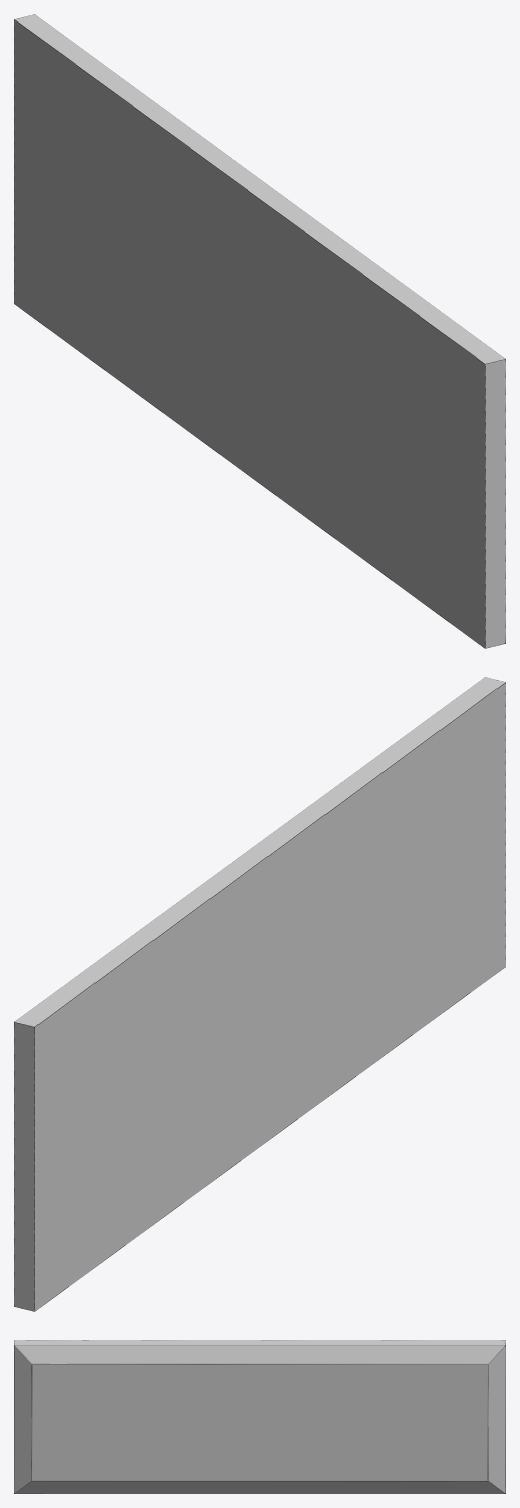
Rendered from sighn.obj.
The picture shows the model from 3 angles, top to bottom: view 1: azimuth 30°, elevation 25°; view 2: azimuth 150°, elevation 25°; view 3: azimuth 270°, elevation 25°; orthographic projection. The views are drawn at different scales.
Parts seen in each view (by area): view 1: sign_Cube.005; view 2: sign_Cube.005; view 3: sign_Cube.005.
Part boxes in pixels (bbox=[...]): sign_Cube.005: bbox=[14, 14, 505, 648]; sign_Cube.005: bbox=[14, 677, 505, 1311]; sign_Cube.005: bbox=[14, 1340, 505, 1493].
Bounding box in the file's own units: 0.2426 × 2 × 6.
Materials: 1 (1 with a texture image).
